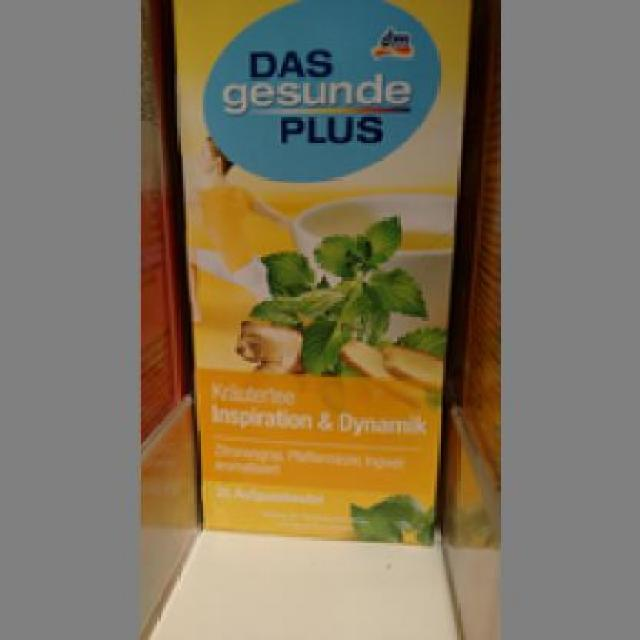Tea: (168, 0, 468, 549)
